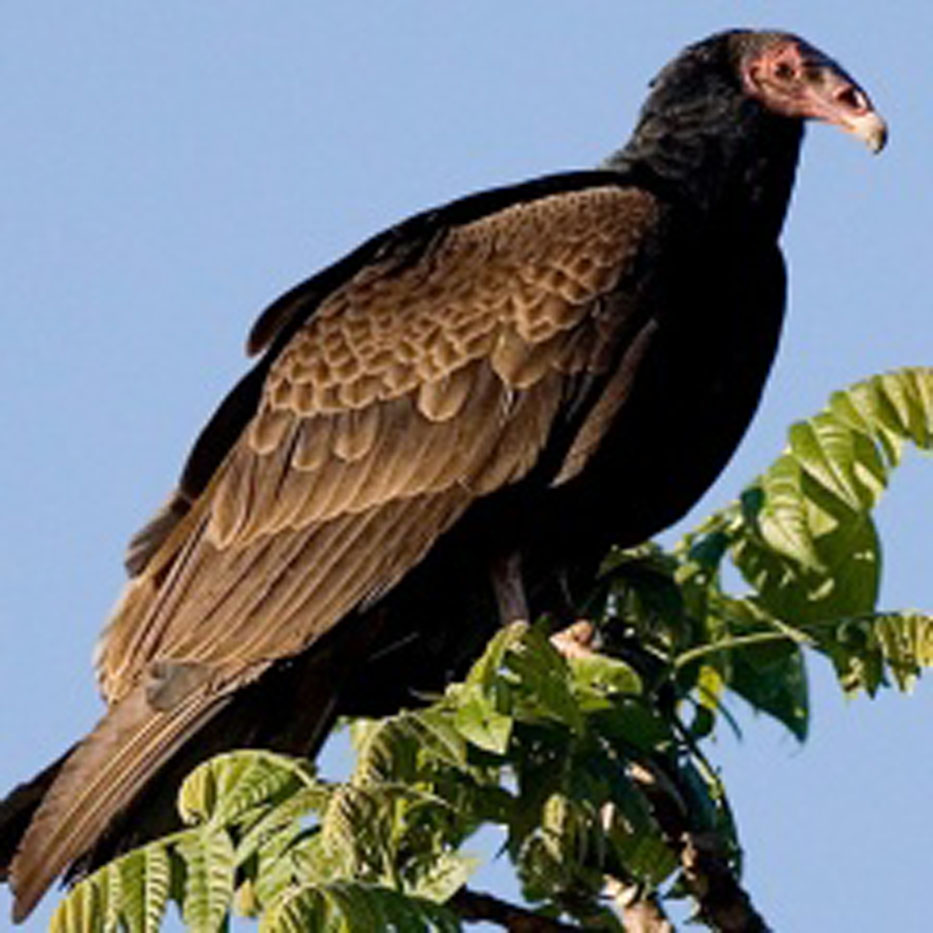Pengoyak Daging: (842, 111, 916, 167)
